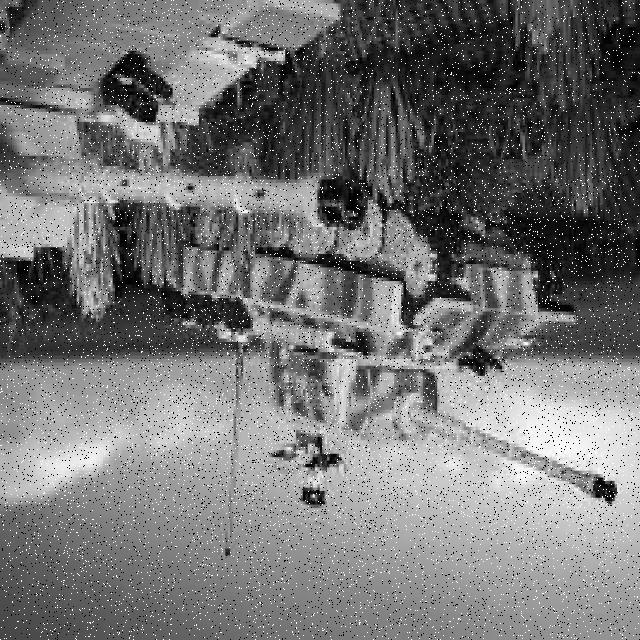MIL_MBT: (148, 183, 619, 518)
